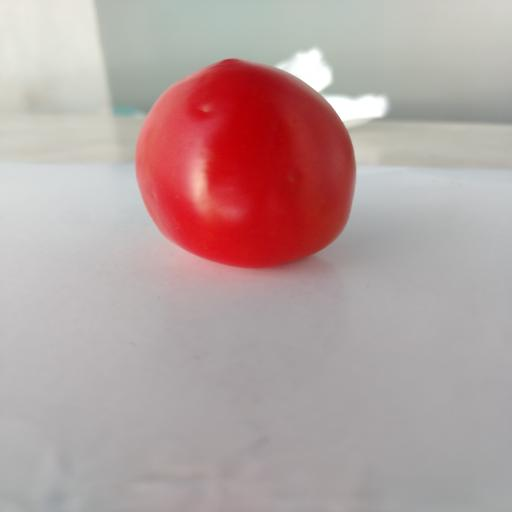ripe: (136, 59, 355, 268)
